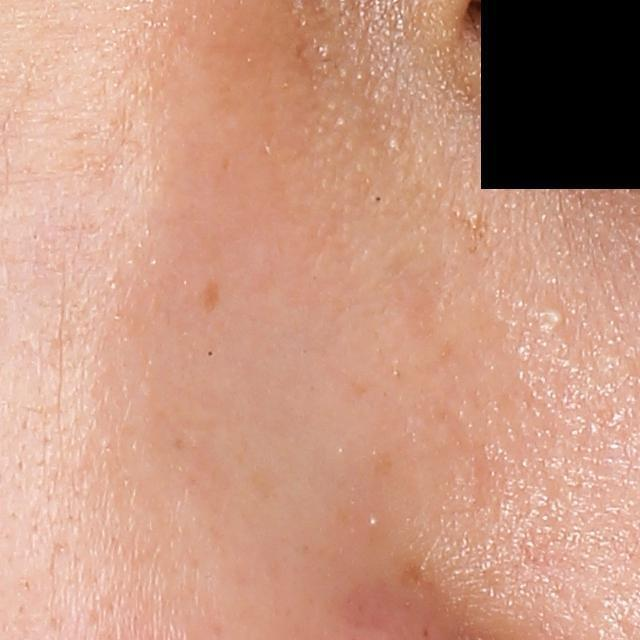comedo: (545, 304, 565, 327), (368, 192, 387, 207)
melasma: (447, 204, 498, 260), (202, 275, 225, 317)
